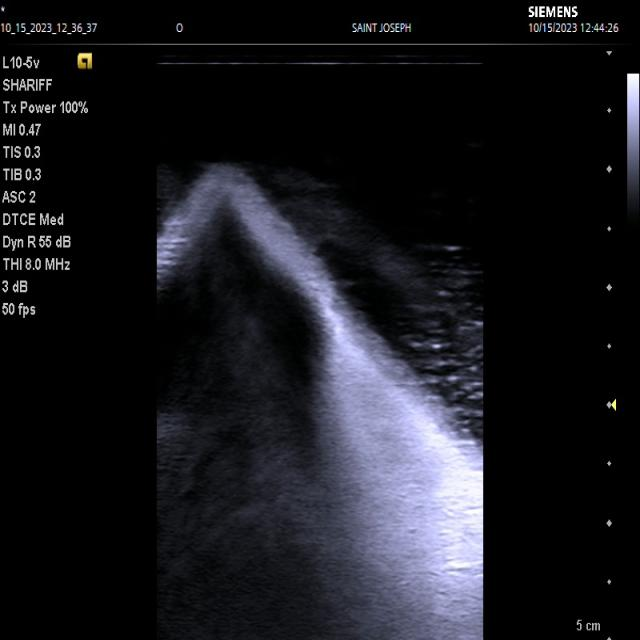tissue: (155, 166, 484, 640)
